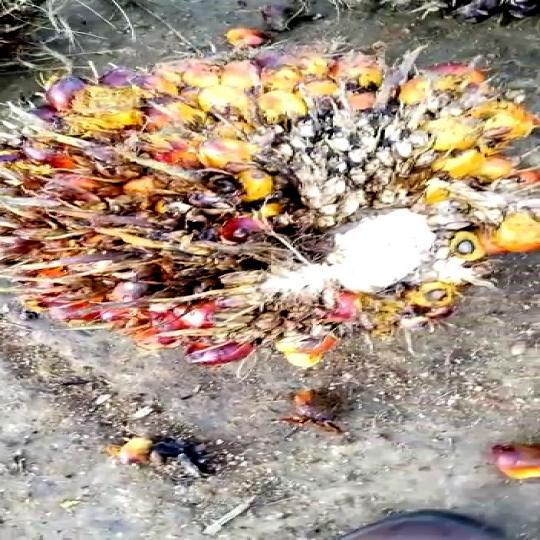masak: (0, 67, 540, 368)
